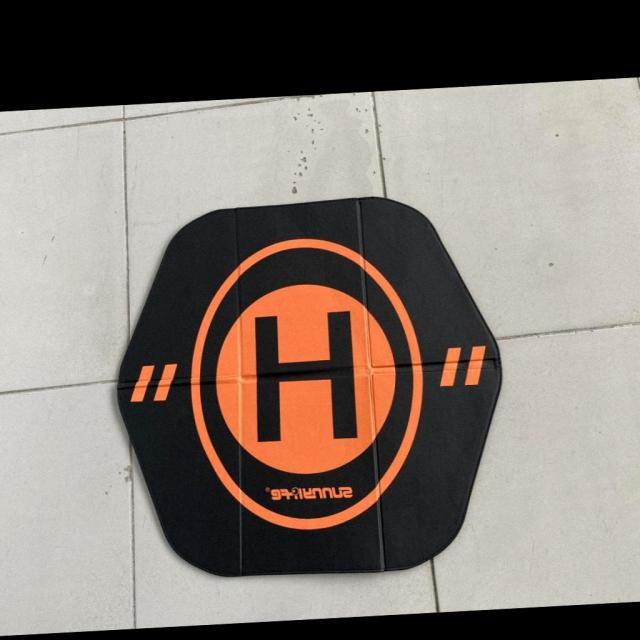helipad: (185, 232, 427, 534)
